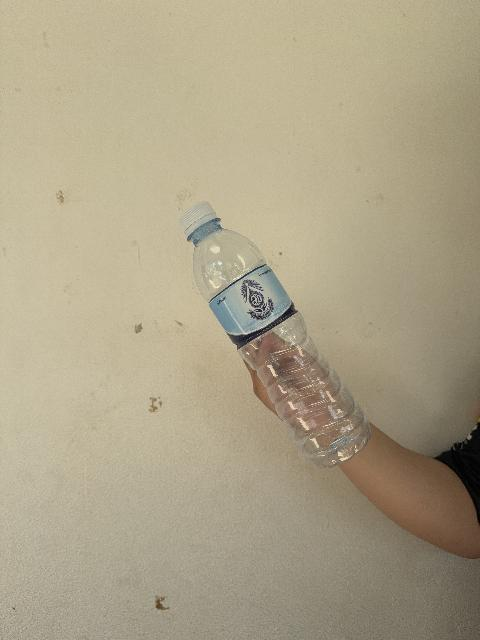bottle: (179, 203, 370, 468)
